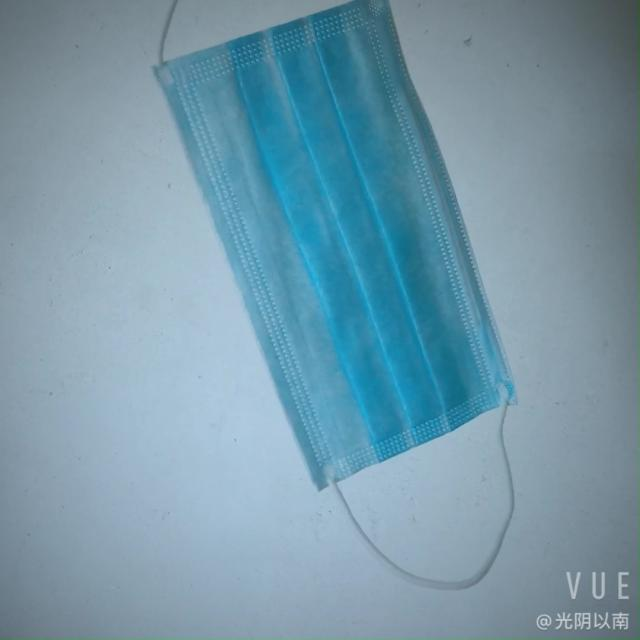non-organic waste: (156, 0, 505, 496)
